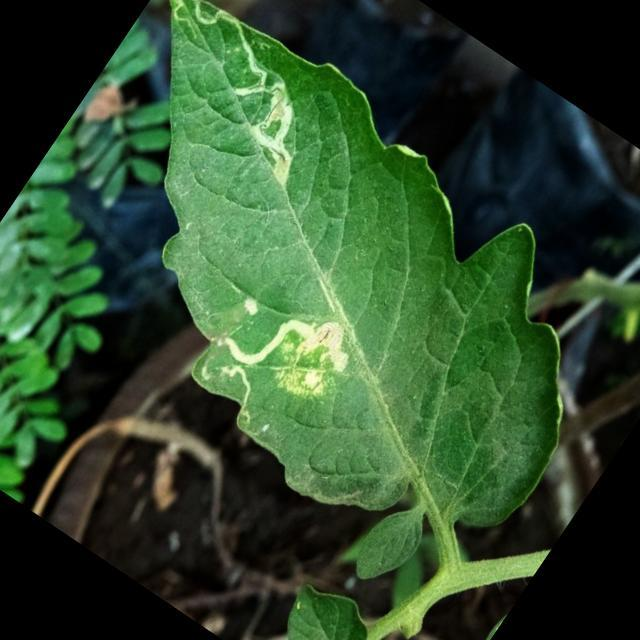Tomato target spot leaf: (0, 0, 640, 607)
